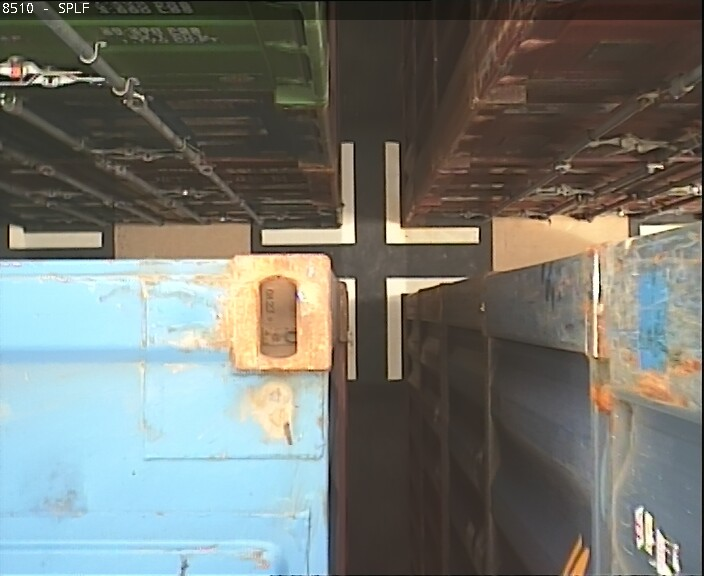groundmarker_1: (259, 142, 479, 247)
